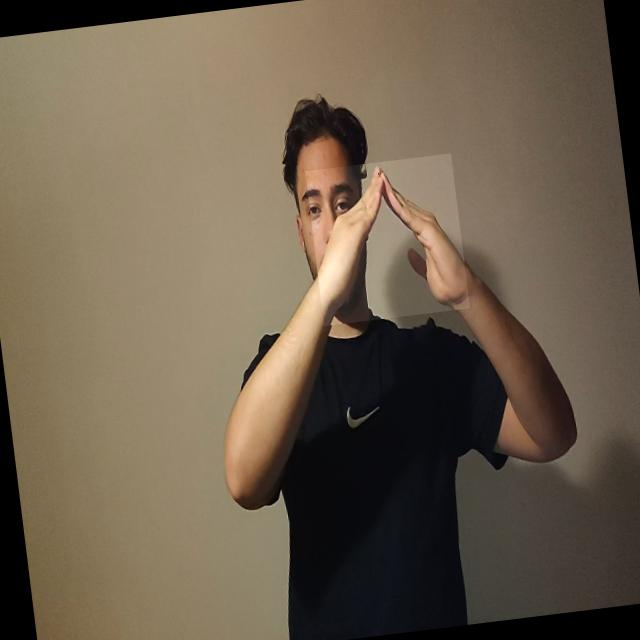house: (305, 152, 471, 326)
